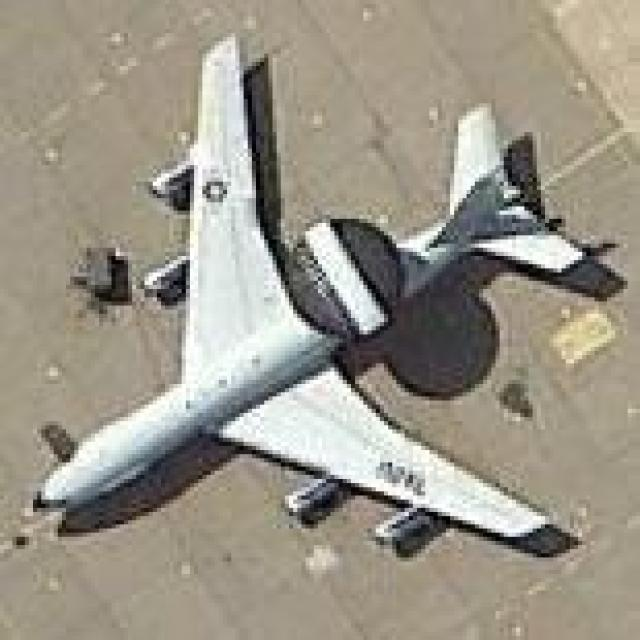E-3_TopDown: (29, 29, 628, 566)
